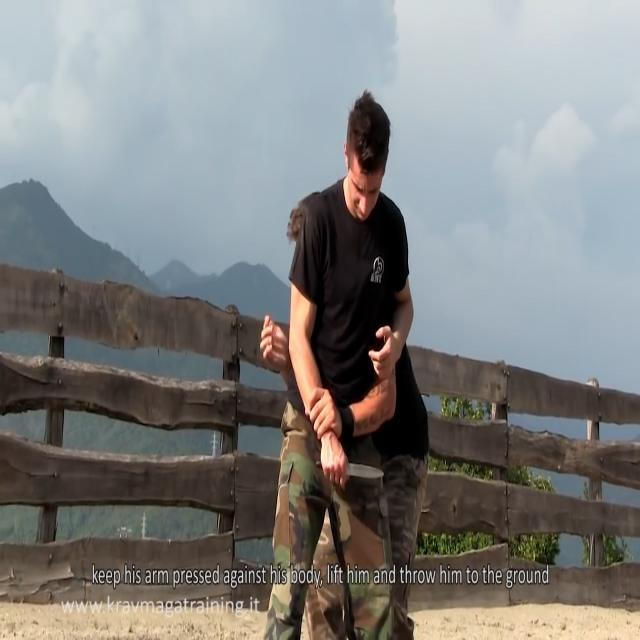knife: (347, 461, 387, 484)
